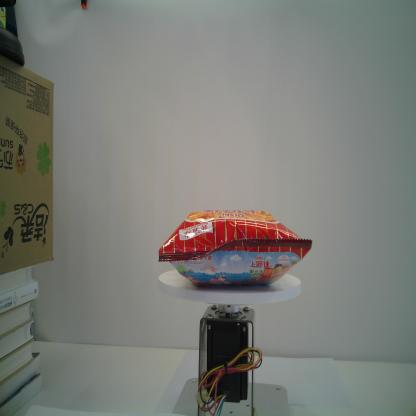Puffed Food: (158, 209, 313, 289)
